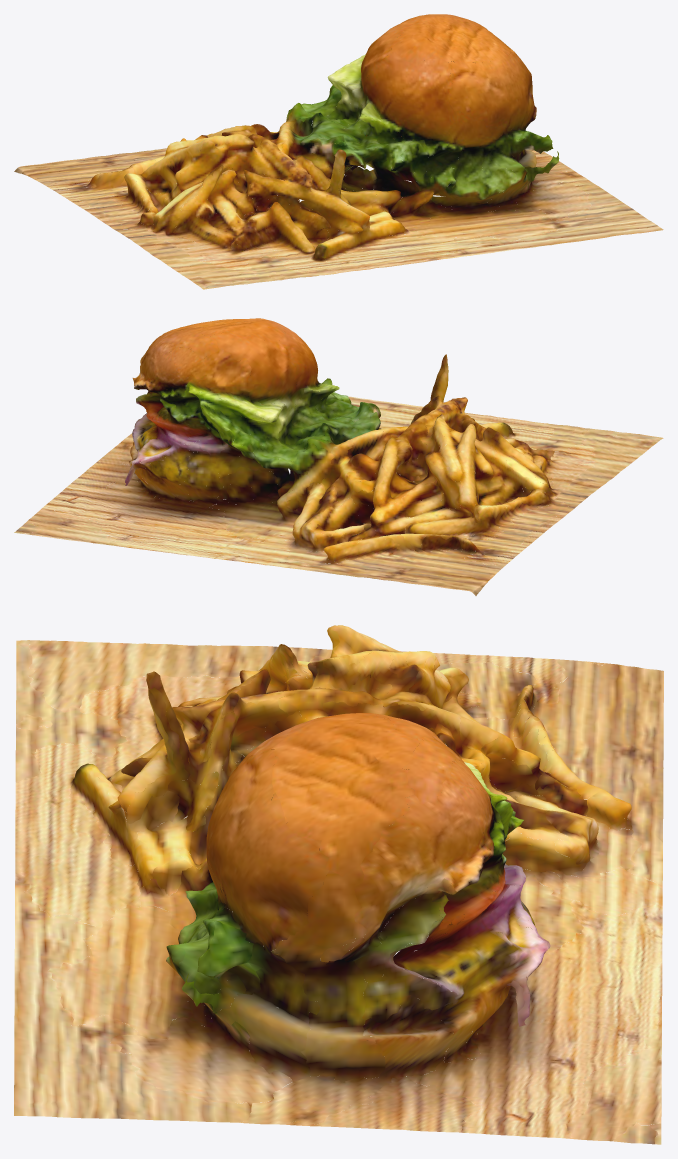
Rendered from cheeseburger.glb.
The picture shows the model from 3 angles, top to bottom: view 1: azimuth 30°, elevation 25°; view 2: azimuth 150°, elevation 25°; view 3: azimuth 270°, elevation 25°; orthographic projection. The views are drawn at different scales.
Parts seen in each view (by area): view 1: Object_2; view 2: Object_2; view 3: Object_2.
Boxes of the visible parts, box(x1,y1,x2,y2) form: Object_2: box(14, 14, 663, 289); Object_2: box(14, 318, 663, 595); Object_2: box(14, 625, 663, 1144).
Size of the model in its own units: 0.3 by 0.1101 by 0.213.
Materials: 1 (1 with a texture image).
